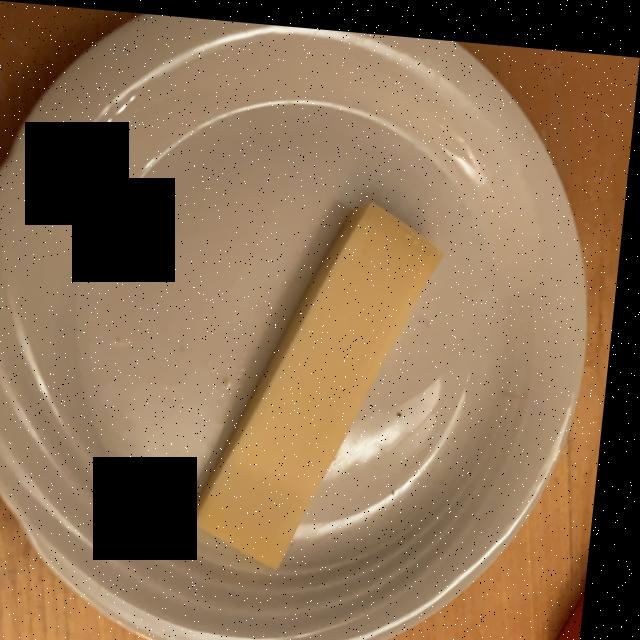gruyere: (209, 204, 440, 555)
